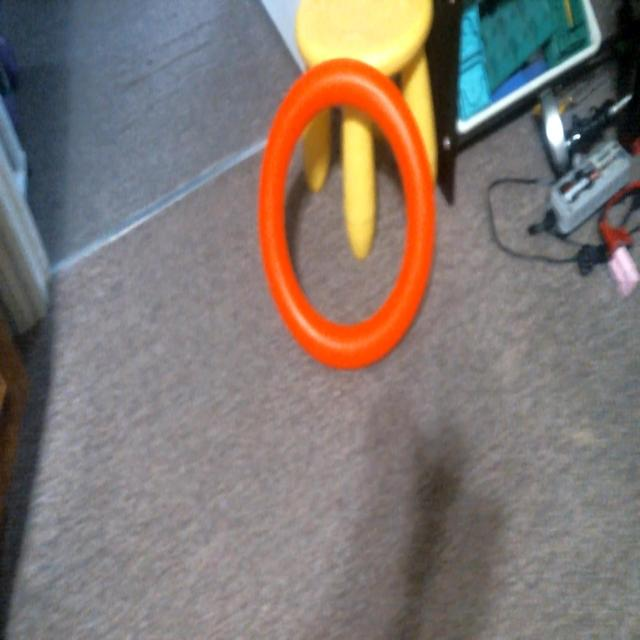note: (256, 54, 436, 376)
